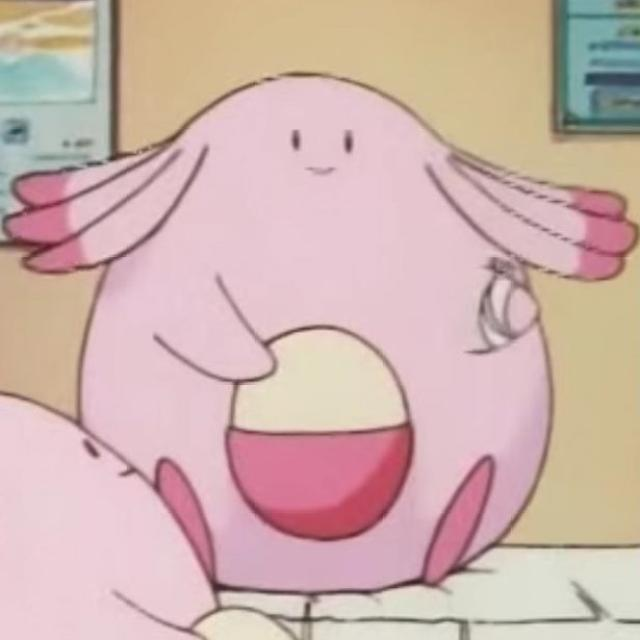Chansey: (53, 78, 571, 544)
